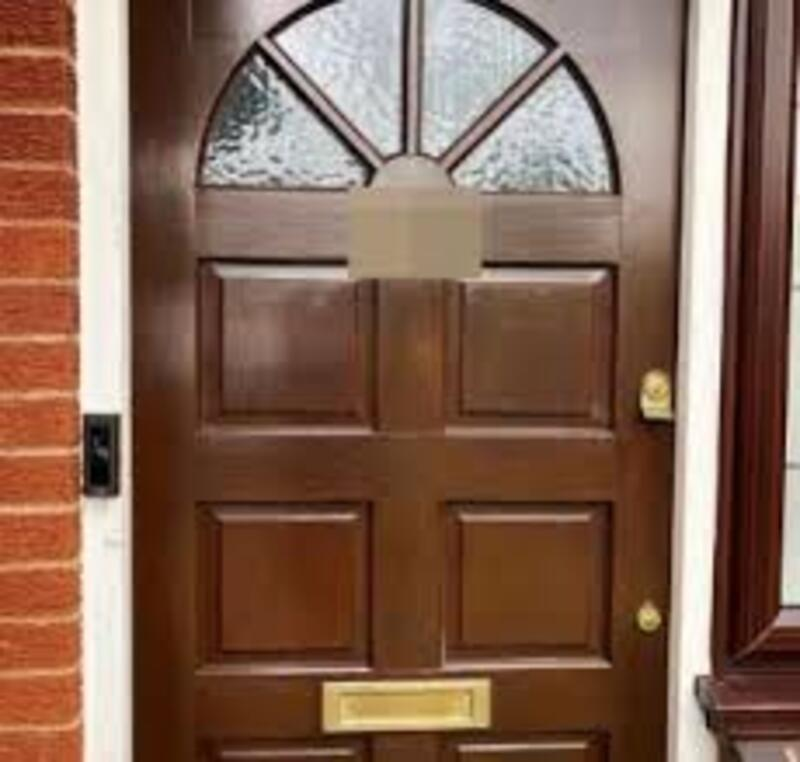doorbell: (63, 402, 126, 510)
